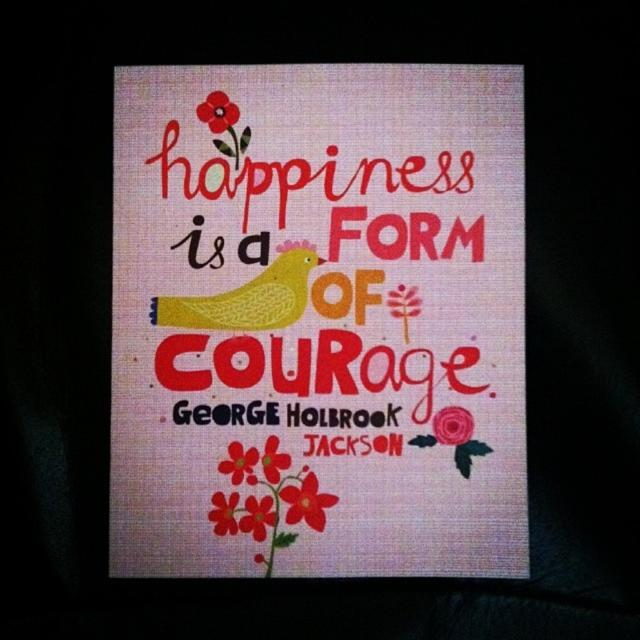Flower: (266, 469, 336, 546), (196, 92, 246, 136), (216, 441, 258, 487), (232, 497, 276, 538), (204, 491, 244, 534), (436, 408, 478, 448), (262, 432, 288, 480)
